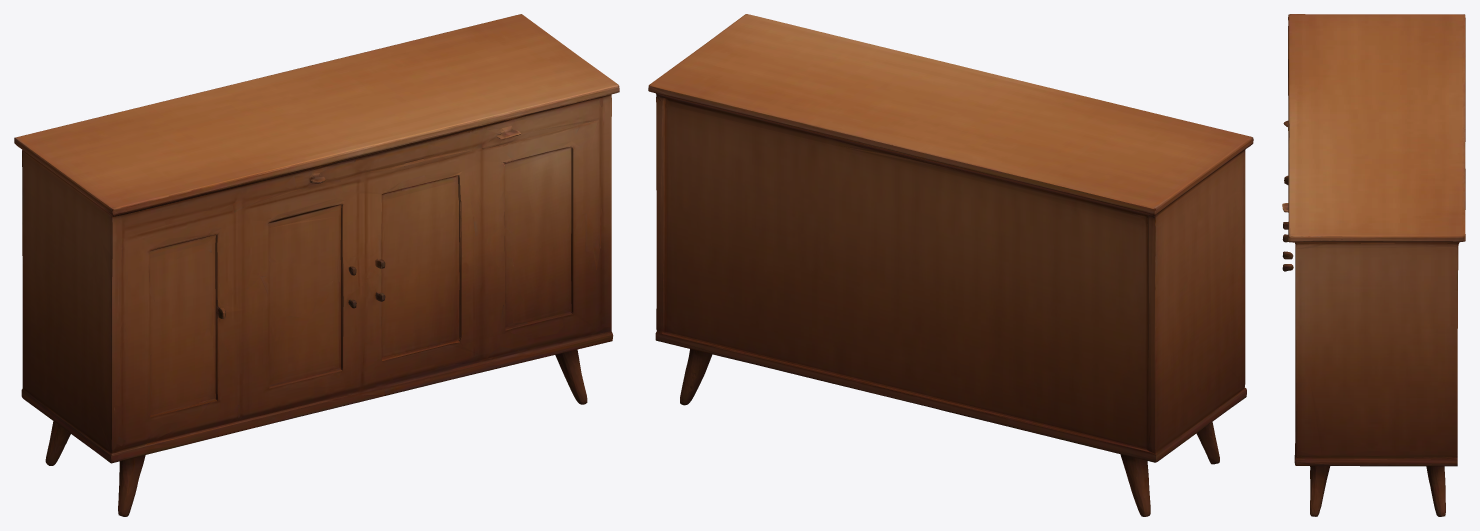
File: chest.glb
The picture shows the model from 3 angles, left to right: view 1: azimuth 30°, elevation 25°; view 2: azimuth 150°, elevation 25°; view 3: azimuth 270°, elevation 25°; orthographic projection. The views are drawn at different scales.
Parts seen in each view (by area): view 1: geometry_0; view 2: geometry_0; view 3: geometry_0.
Boxes of the visible parts, <box> form: geometry_0: <box>14,14,619,516</box>; geometry_0: <box>648,14,1253,516</box>; geometry_0: <box>1282,14,1465,516</box>.
Size of the model in its own units: 0.9999 by 0.6088 by 0.3478.
Materials: 1 (1 with a texture image).
